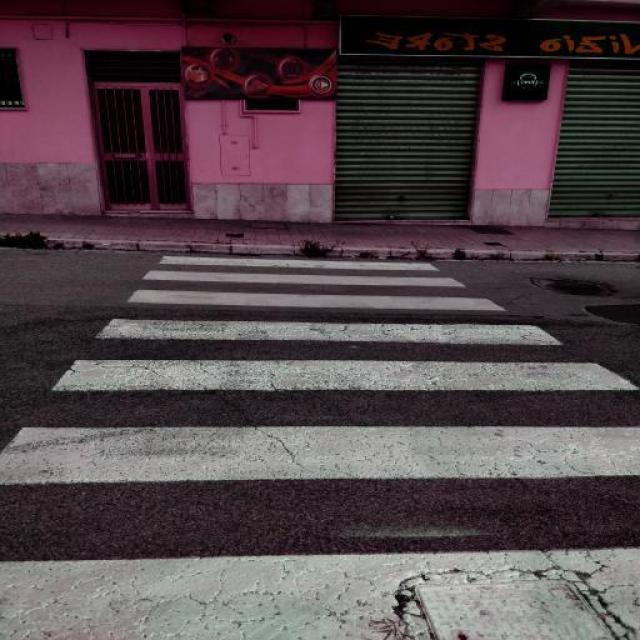crosswalk: (2, 255, 640, 640)
